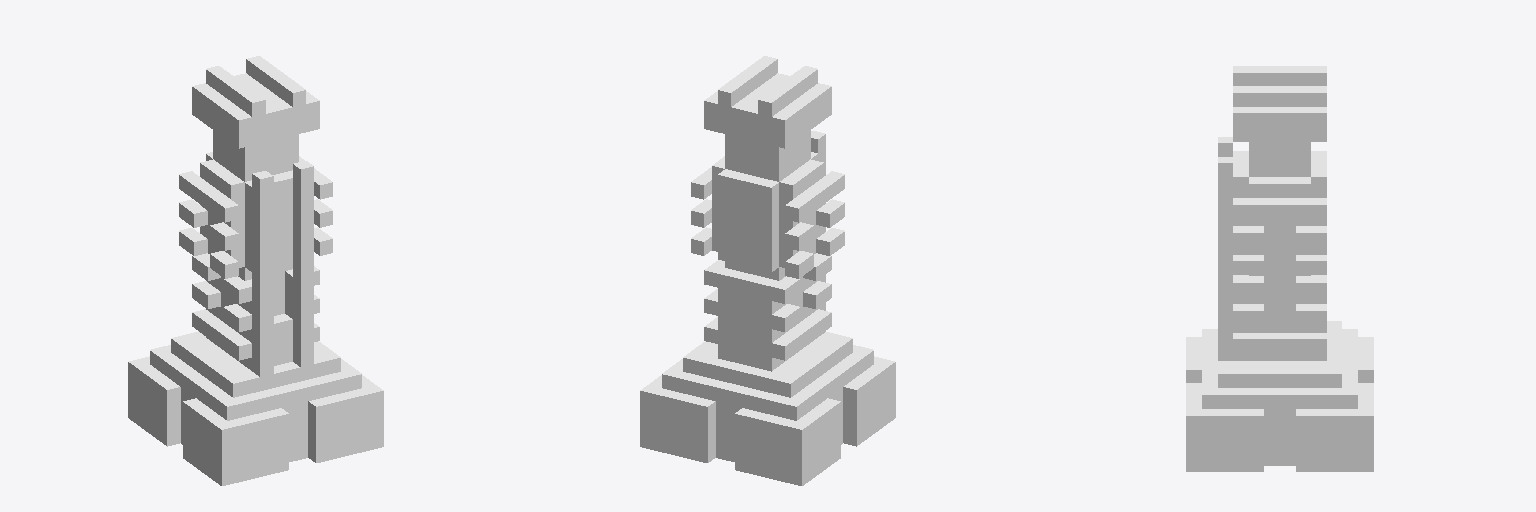
Rendered from tower.blue.obj.
3 views of the same model, side by side, from view 1: azimuth 30°, elevation 25°; view 2: azimuth 150°, elevation 25°; view 3: azimuth 270°, elevation 25° (orthographic).
Visible parts, largest first — view 1: object 1; view 2: object 1; view 3: object 1.
Part boxes in pixels (x1,y1,x2,y2): object 1: (128,56,383,485); object 1: (640,56,895,485); object 1: (1186,66,1373,471).
Bounding box in the file's own units: 1.2 × 2.5 × 1.2.